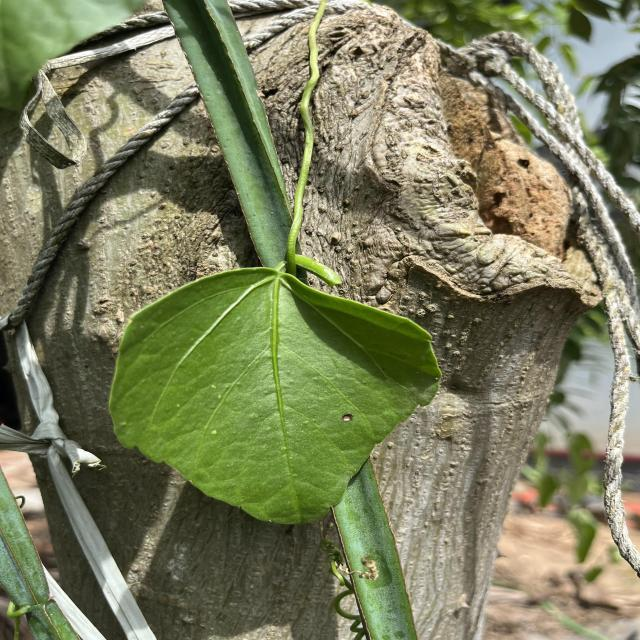Cissus quadrangularis: (104, 263, 446, 526)
